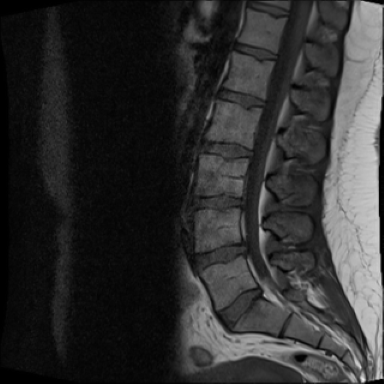Lumbar Disc Bulge (LDB): (213, 275, 271, 336), (183, 232, 258, 278), (178, 186, 257, 220)
Normal IVD: (211, 79, 269, 113), (192, 133, 255, 164), (227, 36, 282, 66), (240, 1, 289, 20)
Spinal Stenosis (SS): (225, 189, 260, 219), (240, 276, 272, 307), (230, 232, 261, 263)
Spondylolisthesis: (197, 284, 287, 337)
